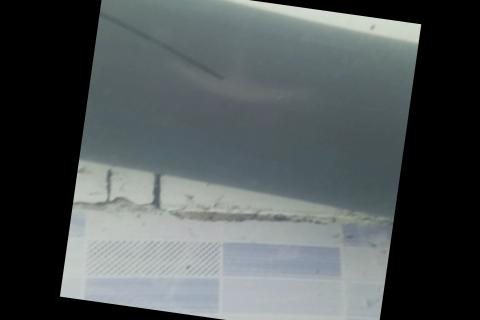keretakan: (92, 8, 230, 78)
